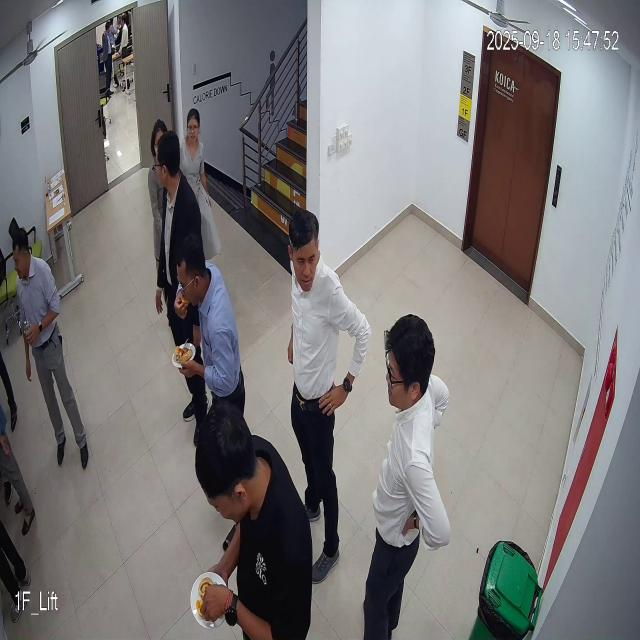face: (282, 204, 327, 294)
